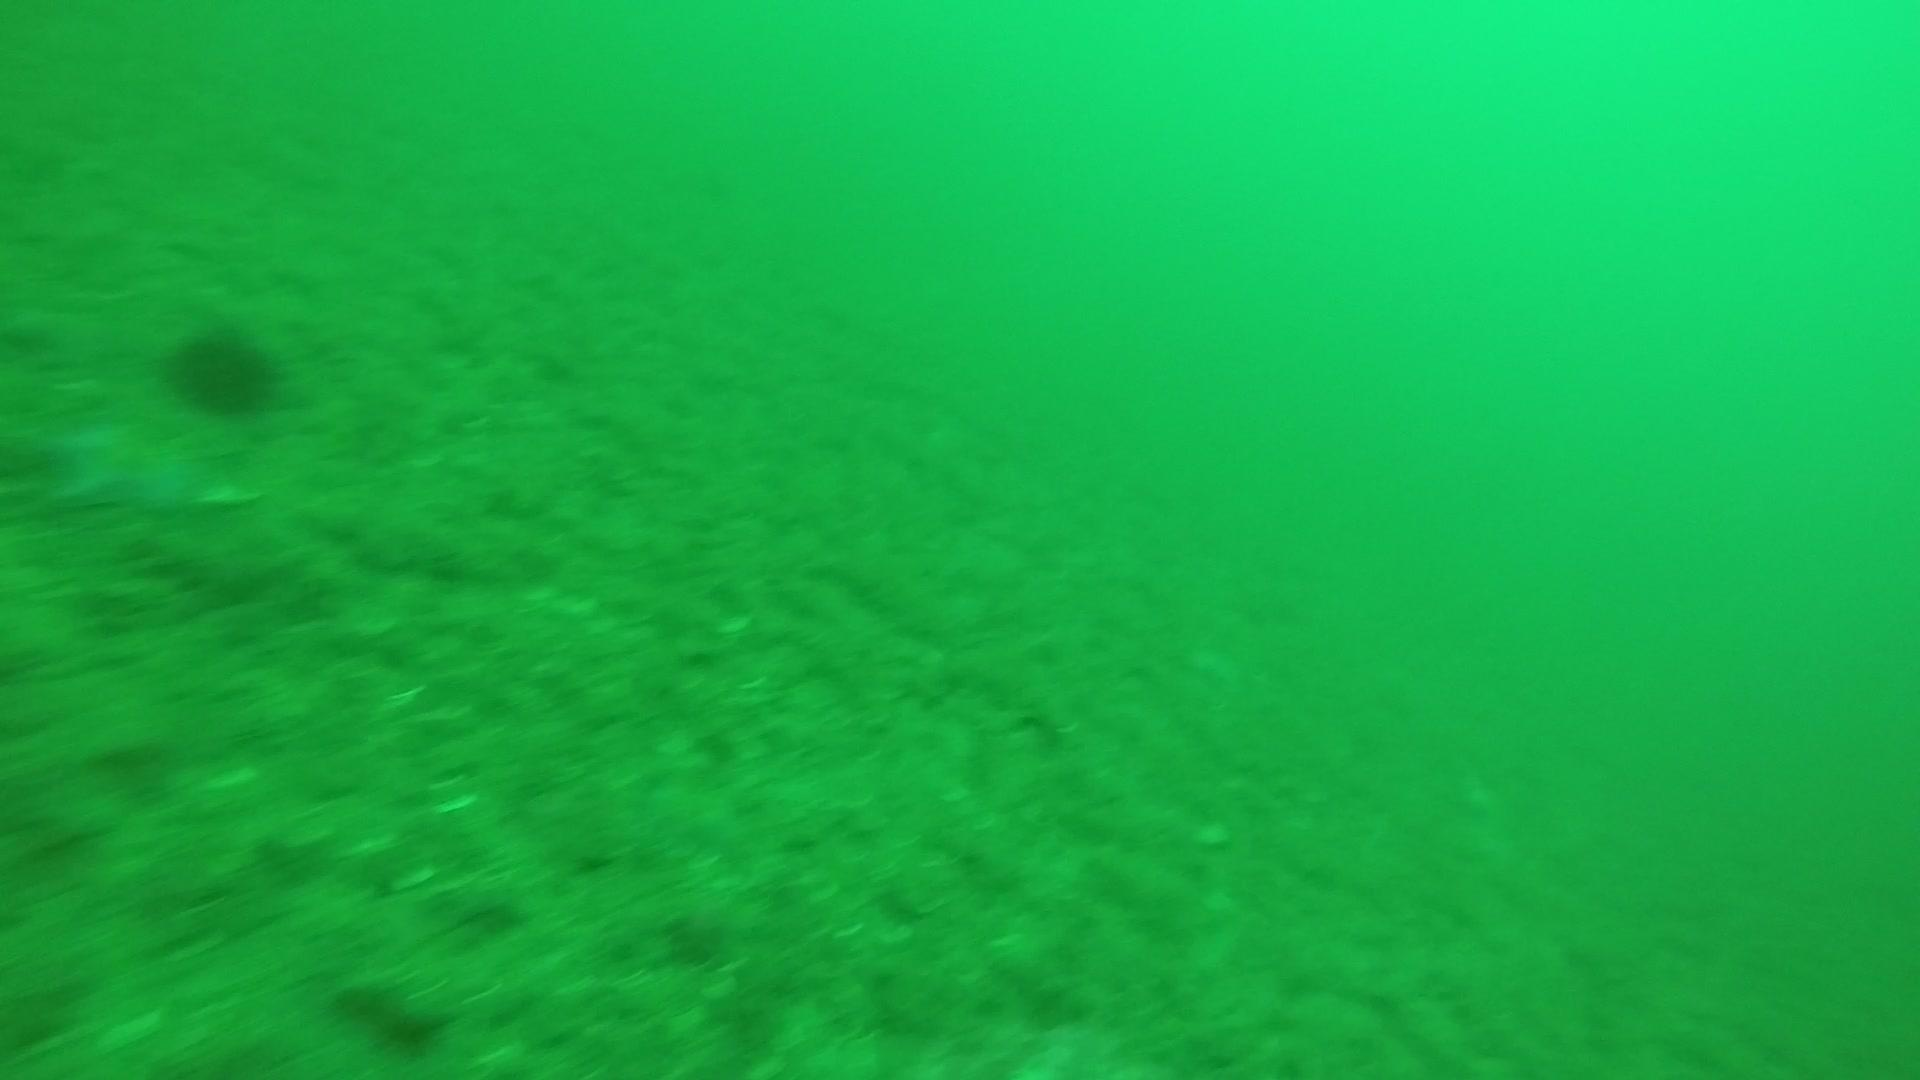echinus: (164, 316, 285, 419)
starfish: (37, 407, 220, 517)
